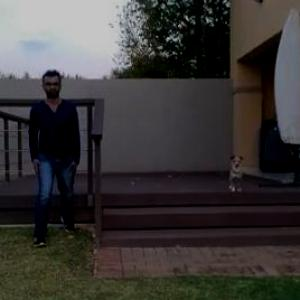follow: (28, 68, 81, 238)
